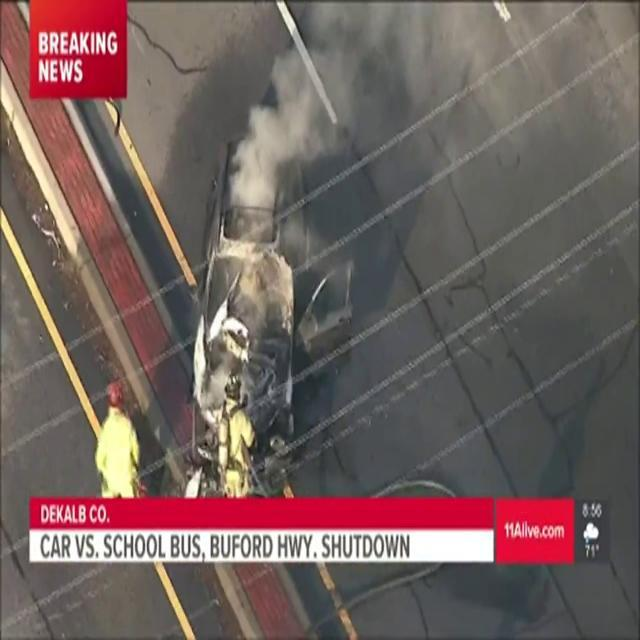Smoke: (227, 2, 533, 196)
